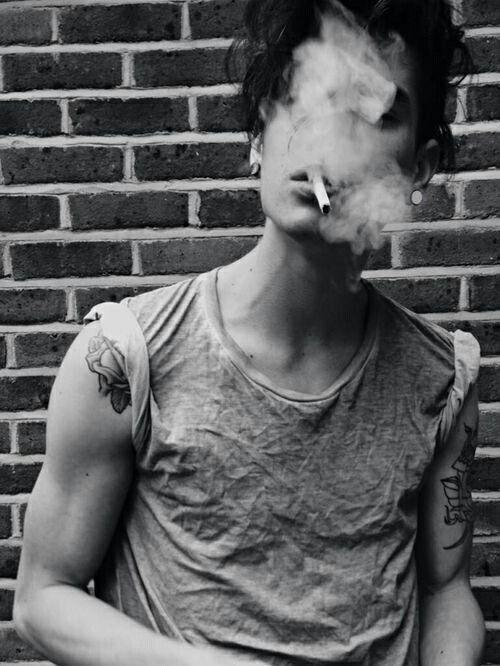cigarette: (306, 166, 332, 216)
